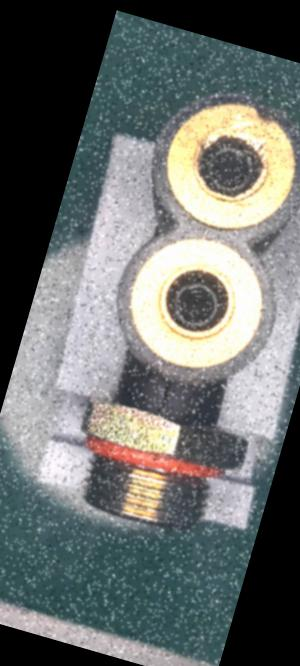bump: (236, 86, 293, 130)
craze: (151, 372, 180, 420)
